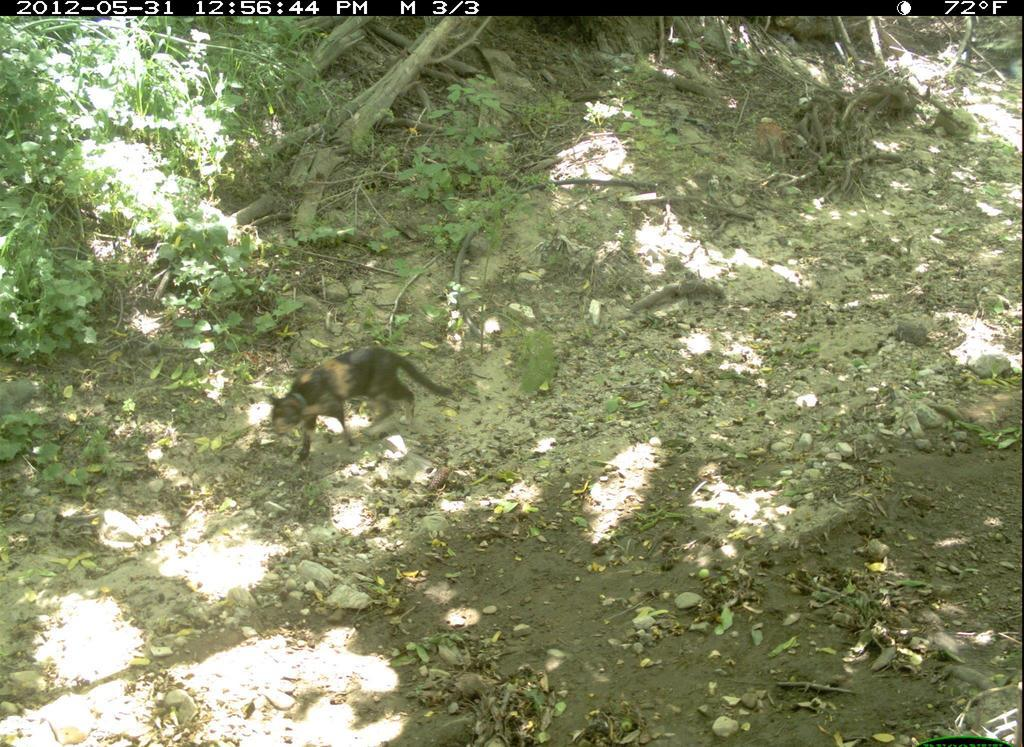cat: (254, 333, 465, 482)
